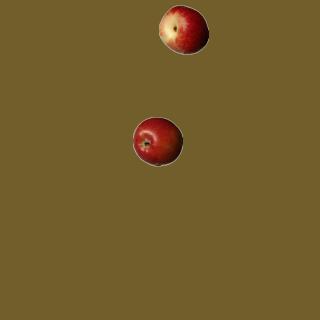Apple Braeburn: (132, 116, 182, 166)
Nectarine: (158, 4, 208, 54)
